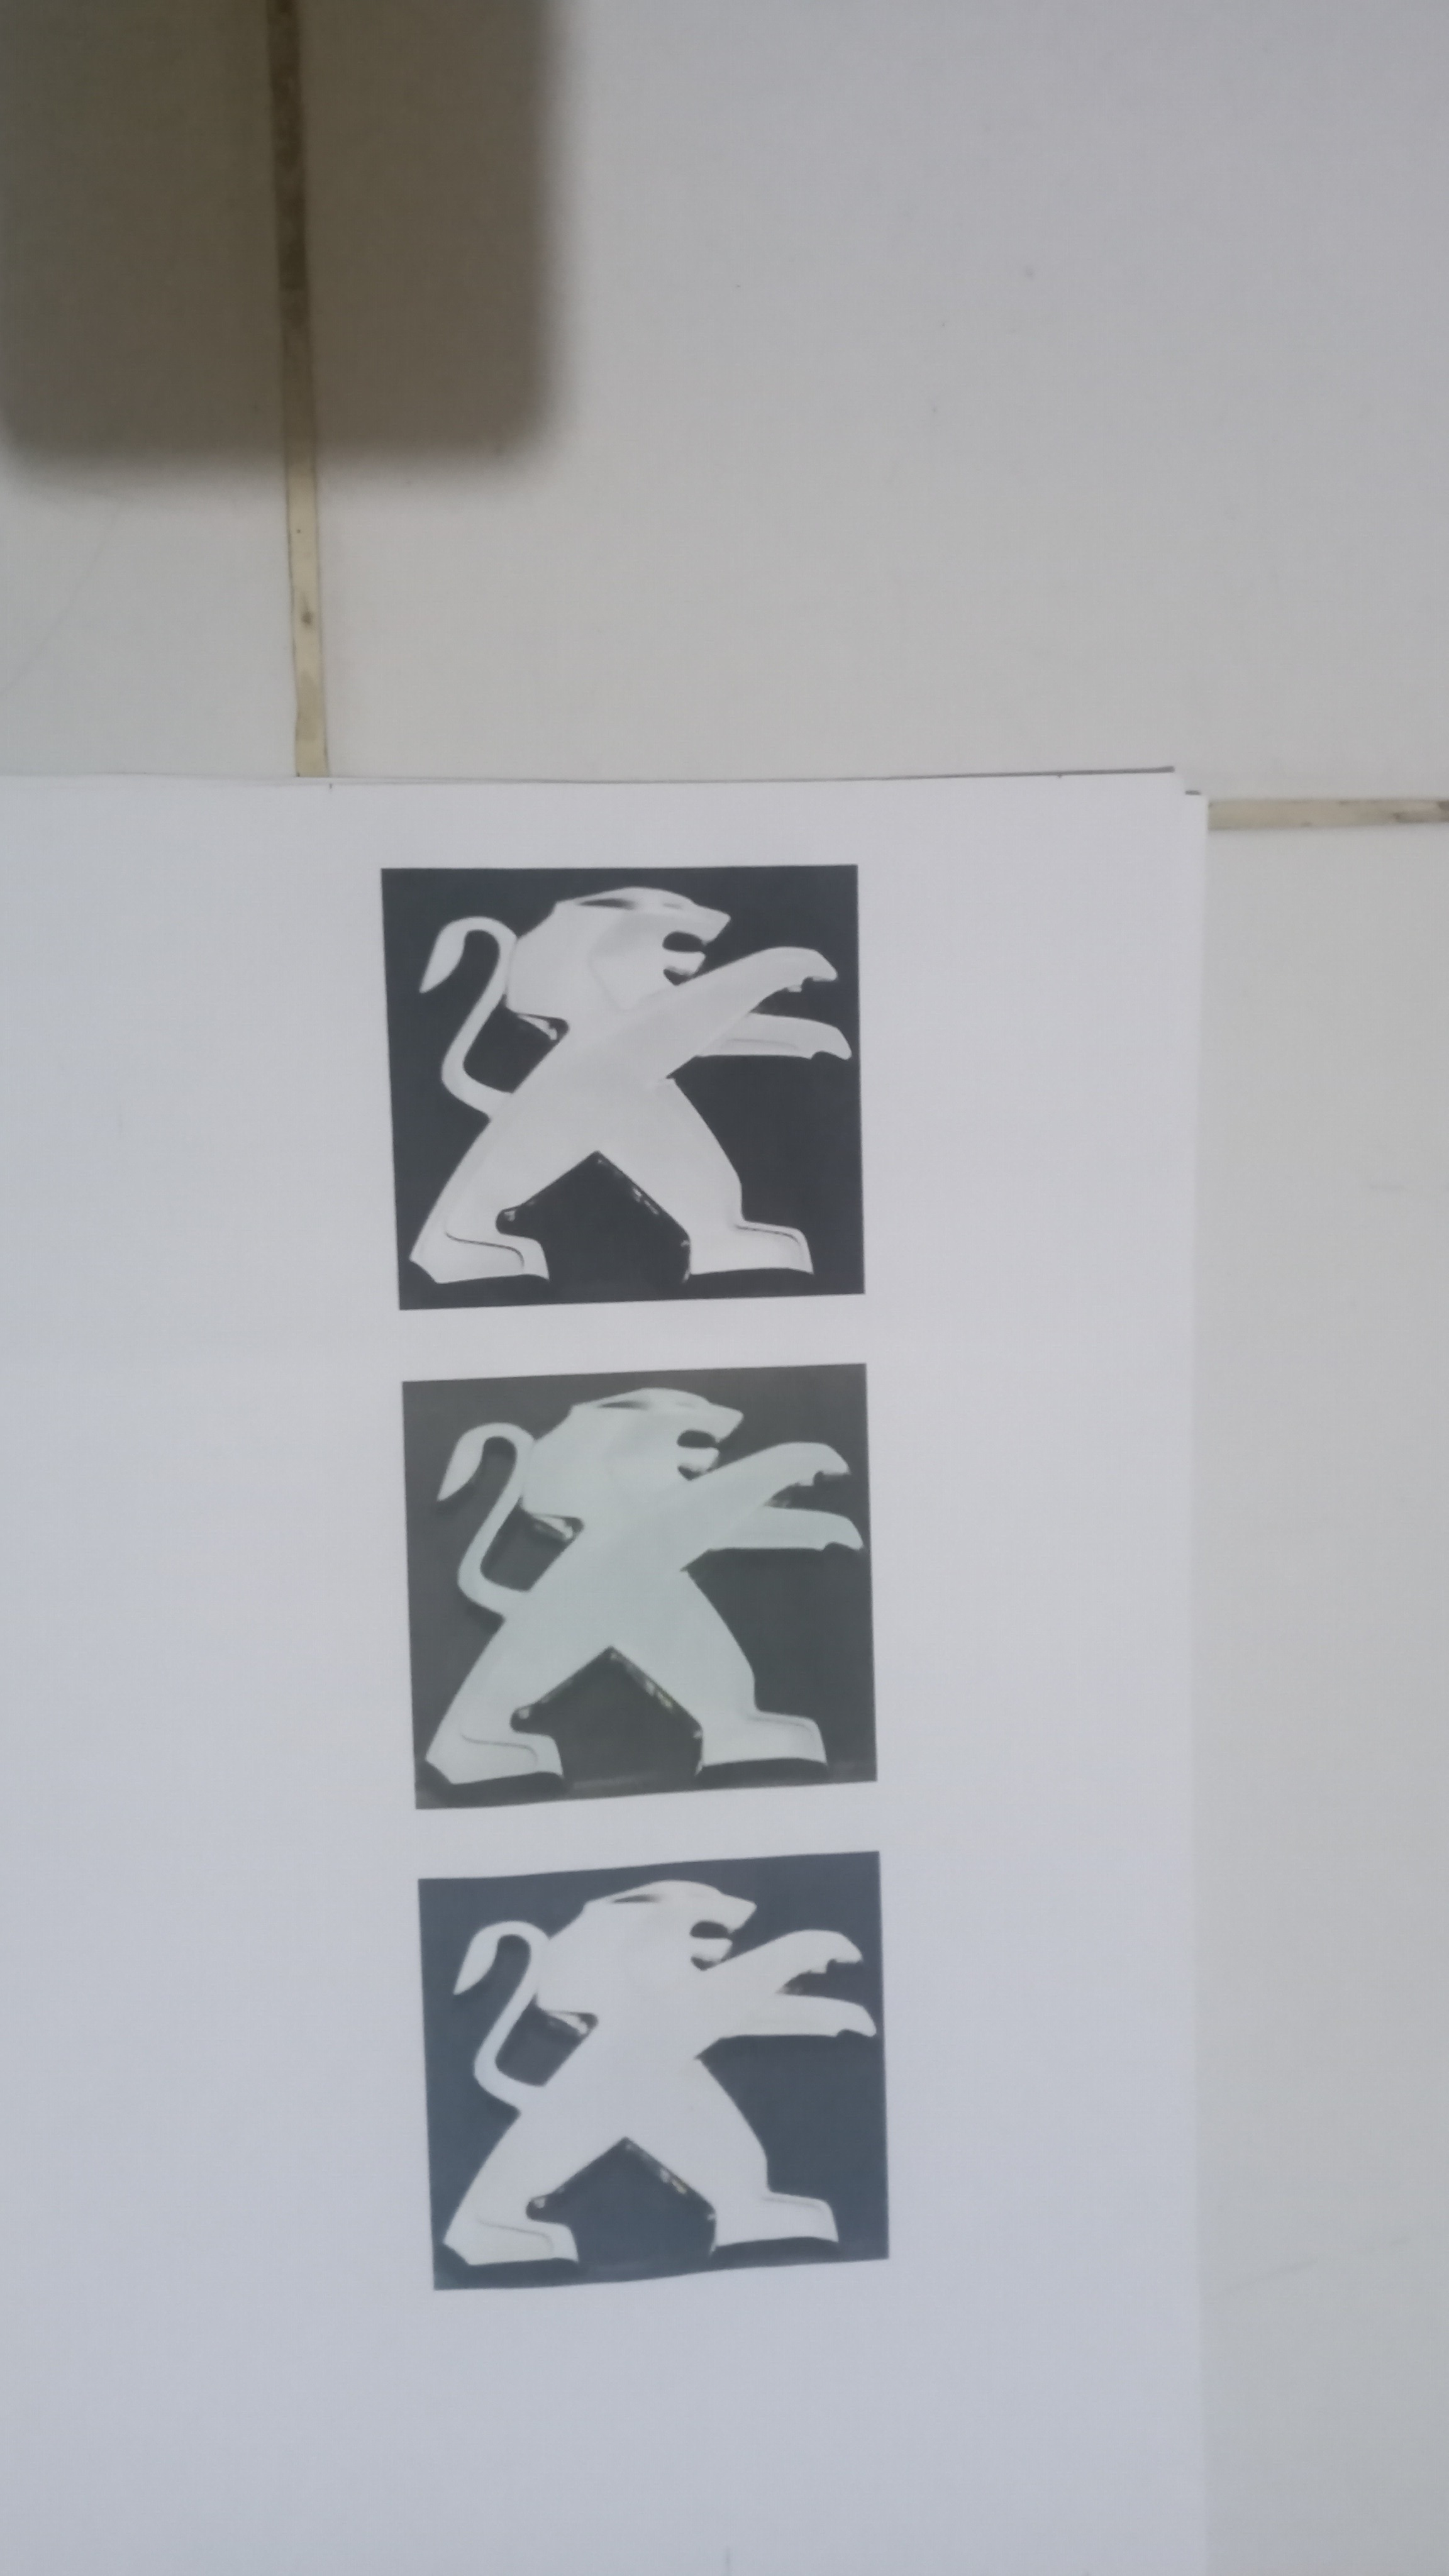Peugeot: (382, 874, 863, 1304), (405, 1375, 872, 1790), (433, 1868, 888, 2277)
